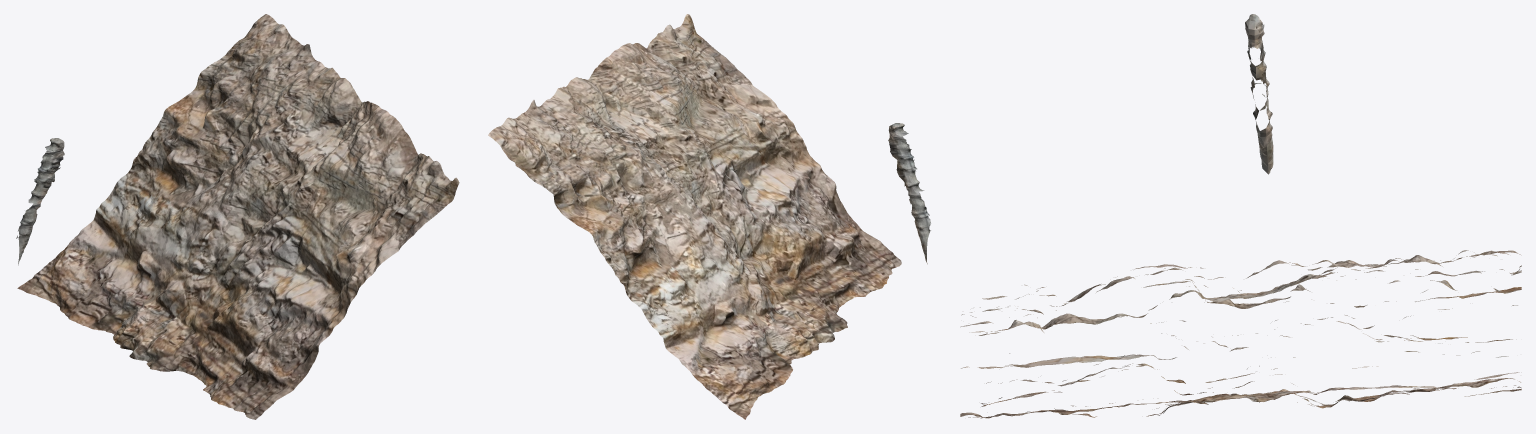
The picture shows the model from 3 angles, left to right: view 1: azimuth 30°, elevation 25°; view 2: azimuth 150°, elevation 25°; view 3: azimuth 270°, elevation 25°; orthographic projection. The views are drawn at different scales.
Bounding box in the file's own units: 5.05 × 3.32 × 5.05.
2 materials, 2 textured.
